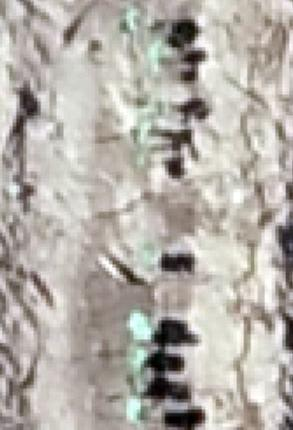cotton: (131, 310, 151, 340), (121, 10, 138, 31), (134, 149, 151, 169), (146, 45, 162, 64), (133, 349, 146, 371), (130, 402, 146, 418), (135, 122, 148, 140), (153, 100, 164, 117), (142, 246, 154, 260)
